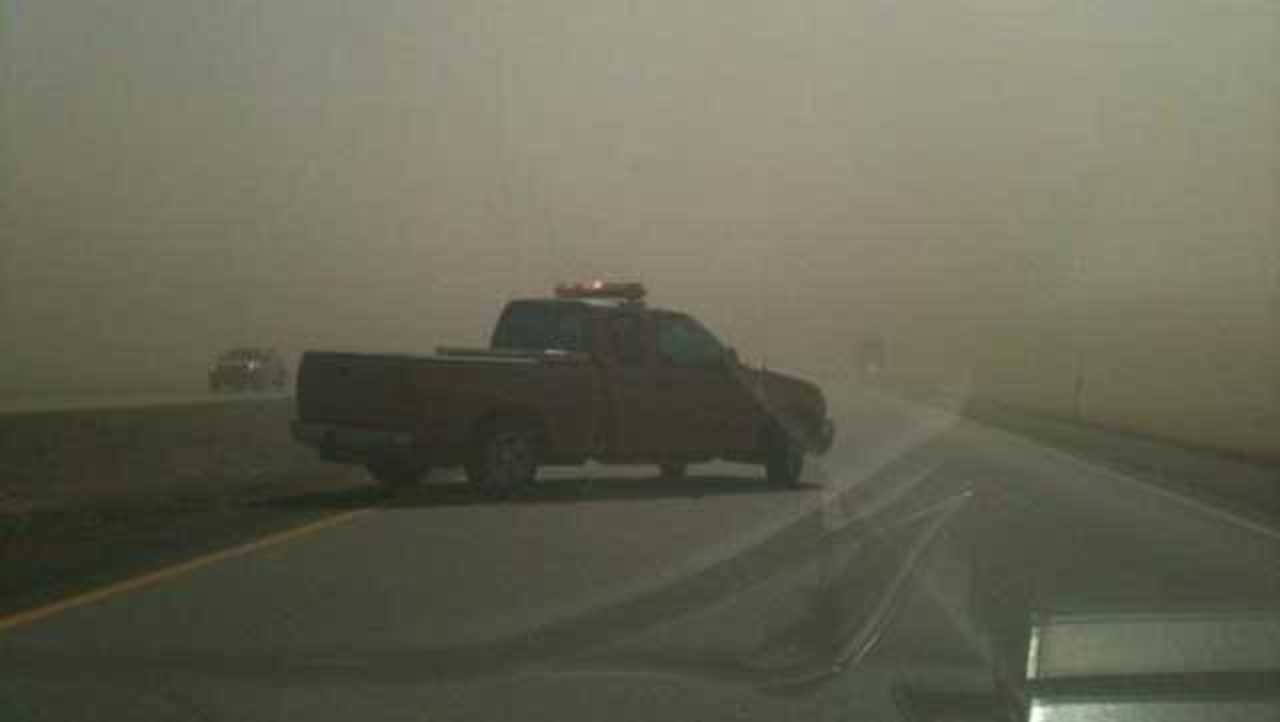car: (207, 345, 284, 392)
truck: (293, 285, 828, 493)
